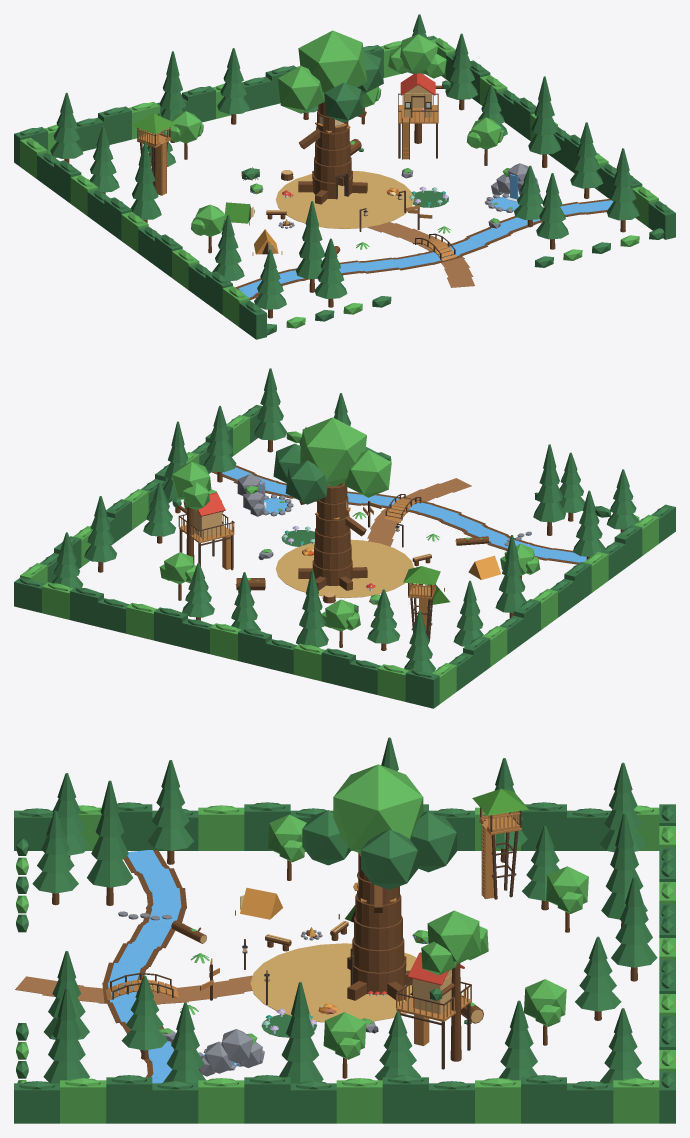
The model's file is CatCafe_Woods_Set.glb.
3 renders of one model, top to bottom at view 1: azimuth 30°, elevation 25°; view 2: azimuth 150°, elevation 25°; view 3: azimuth 270°, elevation 25°, orthographic. The views are drawn at different scales.
Parts seen in each view (by area): view 1: CatCafe_Woods_Set_049_Thicket, CatCafe_Woods_Set_000_GreatOak, CatCafe_Woods_Set, CatCafe_Woods_Set_009_Treehouse, CatCafe_Woods_Set_050_Stream_Water, CatCafe_Woods_Set_038_PineTall, CatCafe_Woods_Set_035_PineTall, CatCafe_Woods_Set_039_PineTall, CatCafe_Woods_Set_010_LookoutTower, CatCafe_Woods_Set_033_PineTall, CatCafe_Woods_Set_029_PineTall, CatCafe_Woods_Set_043_PineTall (+18 smaller); view 2: CatCafe_Woods_Set_049_Thicket, CatCafe_Woods_Set_000_GreatOak, CatCafe_Woods_Set, CatCafe_Woods_Set_009_Treehouse, CatCafe_Woods_Set_050_Stream_Water, CatCafe_Woods_Set_035_PineTall, CatCafe_Woods_Set_039_PineTall, CatCafe_Woods_Set_030_PineTall, CatCafe_Woods_Set_033_PineTall, CatCafe_Woods_Set_010_LookoutTower, CatCafe_Woods_Set_027_PineTall, CatCafe_Woods_Set_037_PineTall (+18 smaller); view 3: CatCafe_Woods_Set_049_Thicket, CatCafe_Woods_Set_000_GreatOak, CatCafe_Woods_Set, CatCafe_Woods_Set_009_Treehouse, CatCafe_Woods_Set_050_Stream_Water, CatCafe_Woods_Set_010_LookoutTower, CatCafe_Woods_Set_035_PineTall, CatCafe_Woods_Set_038_PineTall, CatCafe_Woods_Set_034_PineTall, CatCafe_Woods_Set_029_PineTall, CatCafe_Woods_Set_039_PineTall, CatCafe_Woods_Set_044_PineTall (+21 smaller).
Part boxes in pixels (box(x1,y1,x2,y2)): CatCafe_Woods_Set_049_Thicket: box(14, 35, 675, 339); CatCafe_Woods_Set_000_GreatOak: box(277, 30, 383, 204); CatCafe_Woods_Set: box(235, 170, 610, 300); CatCafe_Woods_Set_009_Treehouse: box(388, 34, 450, 159); CatCafe_Woods_Set_050_Stream_Water: box(238, 200, 613, 297); CatCafe_Woods_Set_038_PineTall: box(528, 76, 560, 167); CatCafe_Woods_Set_035_PineTall: box(296, 201, 324, 292); CatCafe_Woods_Set_039_PineTall: box(606, 148, 639, 232); CatCafe_Woods_Set_010_LookoutTower: box(131, 113, 176, 195); CatCafe_Woods_Set_033_PineTall: box(130, 142, 161, 222); CatCafe_Woods_Set_029_PineTall: box(217, 48, 249, 124); CatCafe_Woods_Set_043_PineTall: box(536, 173, 568, 249); CatCafe_Woods_Set_049_Thicket: box(14, 404, 675, 708); CatCafe_Woods_Set_000_GreatOak: box(273, 417, 391, 590); CatCafe_Woods_Set: box(211, 465, 582, 598); CatCafe_Woods_Set_009_Treehouse: box(172, 462, 234, 570); CatCafe_Woods_Set_050_Stream_Water: box(222, 467, 586, 562); CatCafe_Woods_Set_035_PineTall: box(533, 444, 565, 535); CatCafe_Woods_Set_039_PineTall: box(254, 368, 286, 452); CatCafe_Woods_Set_030_PineTall: box(296, 570, 328, 647); CatCafe_Woods_Set_033_PineTall: box(495, 535, 526, 617); CatCafe_Woods_Set_010_LookoutTower: box(403, 566, 440, 641); CatCafe_Woods_Set_027_PineTall: box(84, 496, 116, 572); CatCafe_Woods_Set_037_PineTall: box(204, 405, 236, 482); CatCafe_Woods_Set_049_Thicket: box(14, 802, 675, 1123); CatCafe_Woods_Set_000_GreatOak: box(302, 764, 456, 1001); CatCafe_Woods_Set: box(15, 850, 416, 1077); CatCafe_Woods_Set_009_Treehouse: box(396, 910, 488, 1069); CatCafe_Woods_Set_050_Stream_Water: box(108, 850, 181, 1083); CatCafe_Woods_Set_010_LookoutTower: box(472, 788, 528, 899); CatCafe_Woods_Set_035_PineTall: box(87, 780, 132, 905); CatCafe_Woods_Set_038_PineTall: box(279, 982, 323, 1083); CatCafe_Woods_Set_034_PineTall: box(147, 760, 193, 864); CatCafe_Woods_Set_029_PineTall: box(611, 876, 657, 981); CatCafe_Woods_Set_039_PineTall: box(43, 987, 89, 1083); CatCafe_Woods_Set_044_PineTall: box(32, 810, 78, 905).
Size of the model in its own units: 119 by 43.9 by 119.
Materials: 1 (1 with a texture image).
